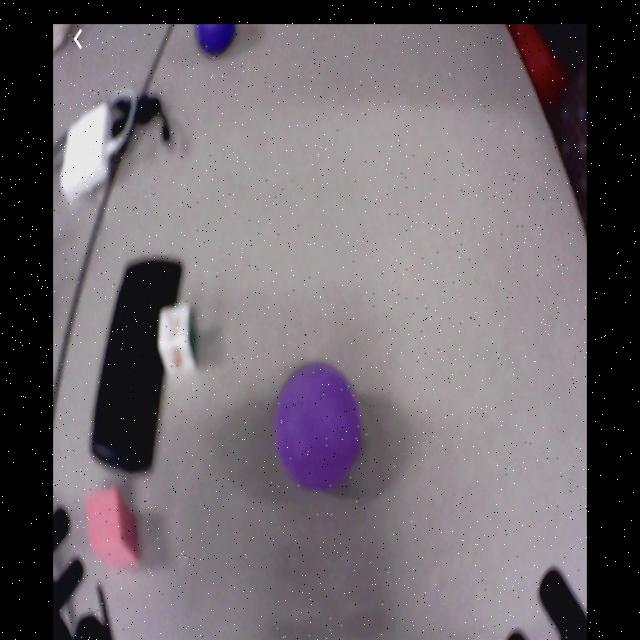ball: (277, 365, 361, 488), (195, 24, 237, 59)
